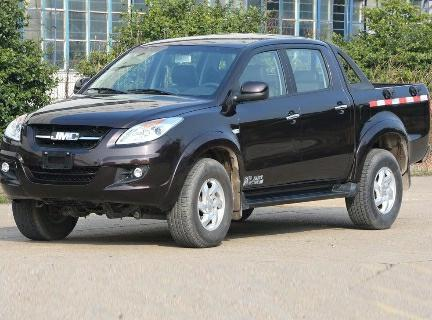car: (2, 18, 432, 253)
